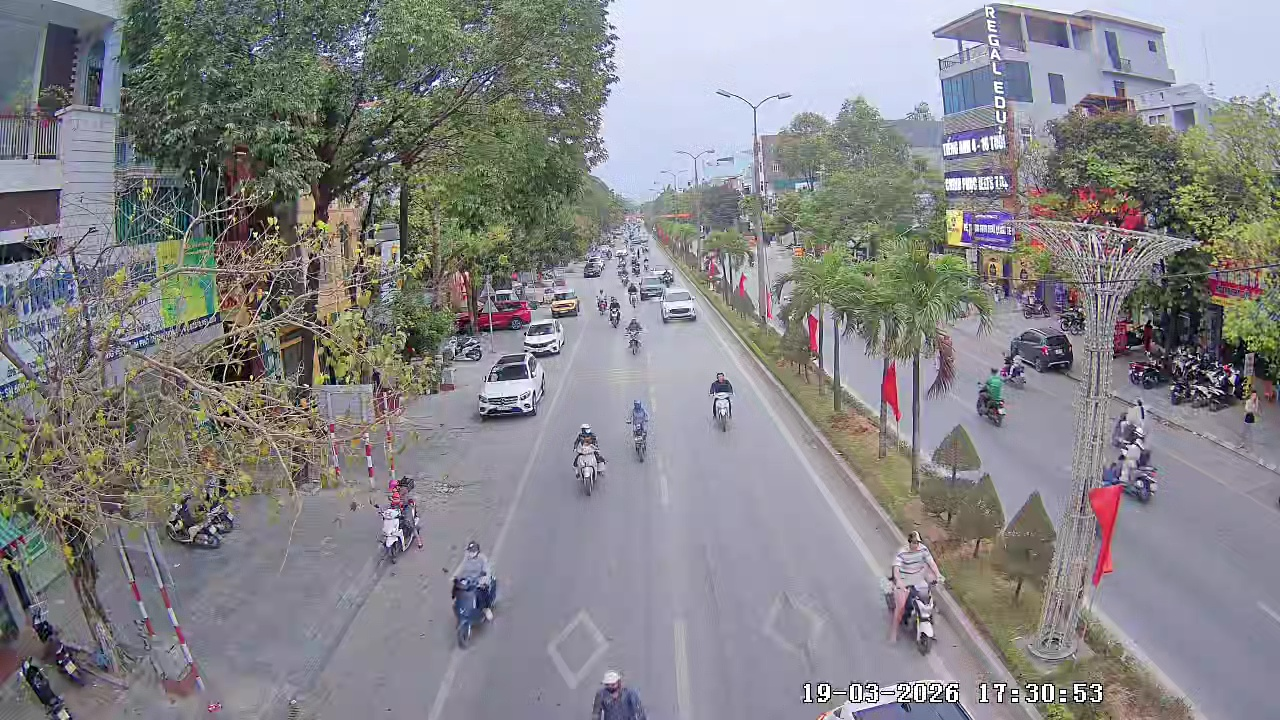car: (475, 353, 547, 418), (1008, 323, 1075, 373), (522, 315, 565, 356), (659, 289, 697, 324), (550, 287, 580, 318)
exception: (591, 668, 651, 719)
motorbike: (882, 531, 943, 656), (442, 537, 500, 649), (164, 491, 226, 549), (1118, 428, 1160, 505), (571, 422, 607, 498), (624, 397, 653, 465), (976, 367, 1008, 427), (707, 370, 736, 433), (997, 344, 1028, 387), (625, 318, 644, 355), (608, 295, 622, 328)
